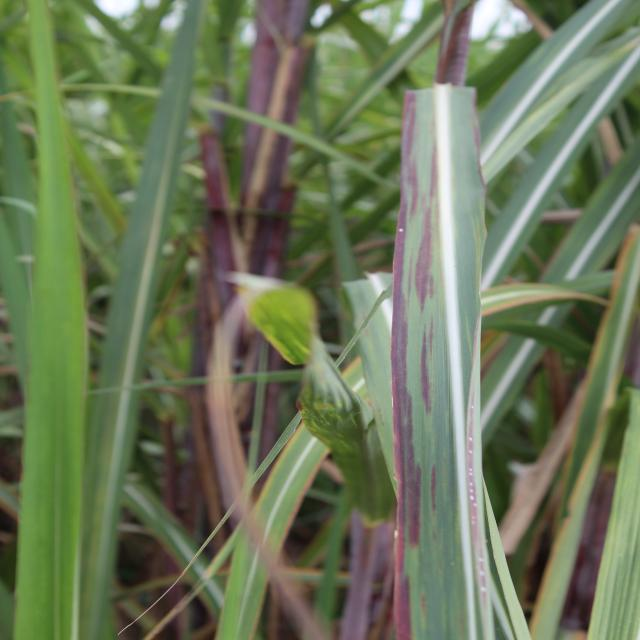Sugarcane: (207, 13, 407, 636), (44, 7, 215, 638), (381, 76, 505, 640), (7, 5, 104, 634), (521, 212, 637, 640), (476, 0, 640, 194), (209, 407, 339, 640), (508, 90, 640, 302), (9, 101, 124, 255), (331, 1, 456, 140), (119, 476, 226, 635), (195, 91, 378, 180), (473, 315, 576, 461), (53, 0, 177, 103), (0, 77, 42, 355), (595, 223, 640, 427), (300, 483, 360, 634), (318, 153, 367, 332), (464, 11, 553, 102), (479, 270, 620, 322), (478, 317, 602, 365), (200, 0, 249, 108)
